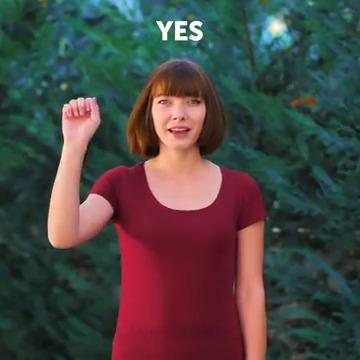Yes: (48, 87, 117, 171)
